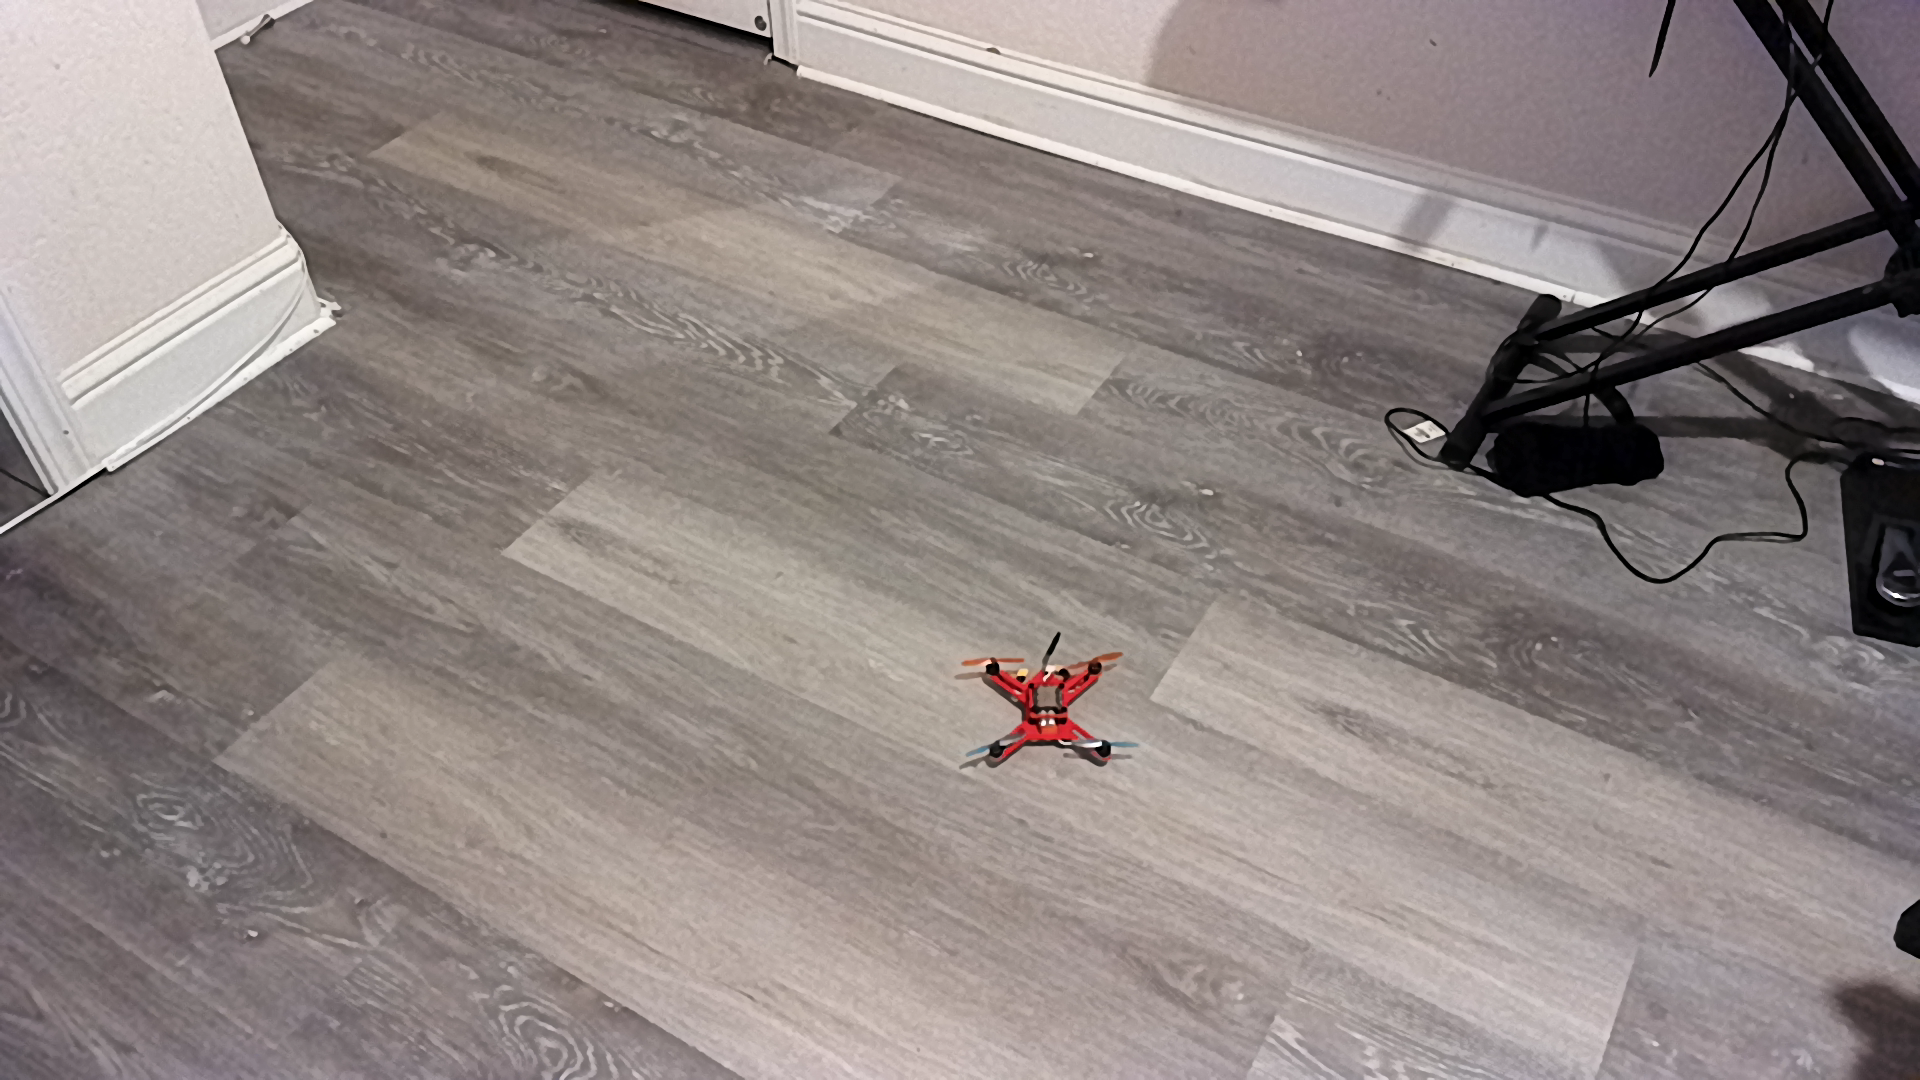drone: (952, 626, 1153, 783)
